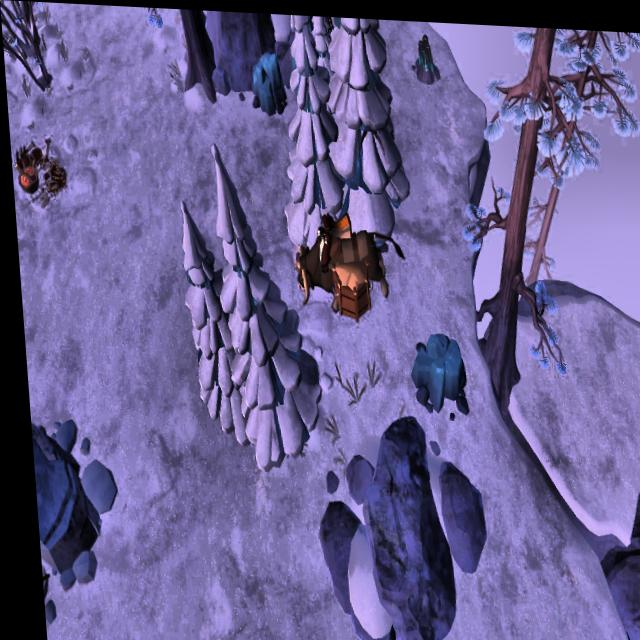ore_t4: (413, 30, 437, 68)
rock_t4: (404, 327, 464, 409), (247, 46, 290, 117)
